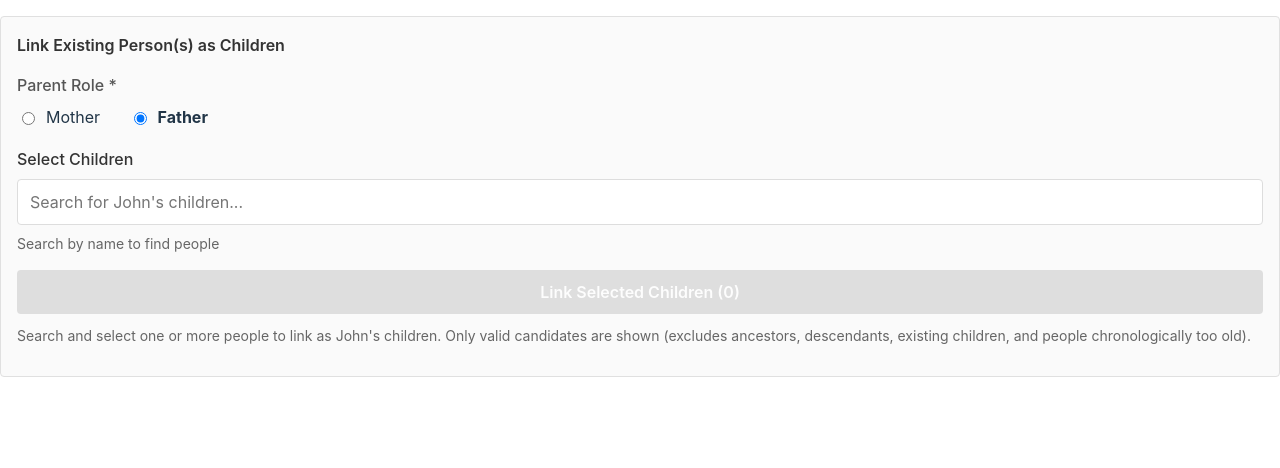
it: LinkExistingChildren › Child Selection › should enable Link button when children are selected and role is chosen
// Open dropdown and select a child
Step 1. Focus the dropdown labelled "Select Children" → (640, 202), box [17,179,1263,225]
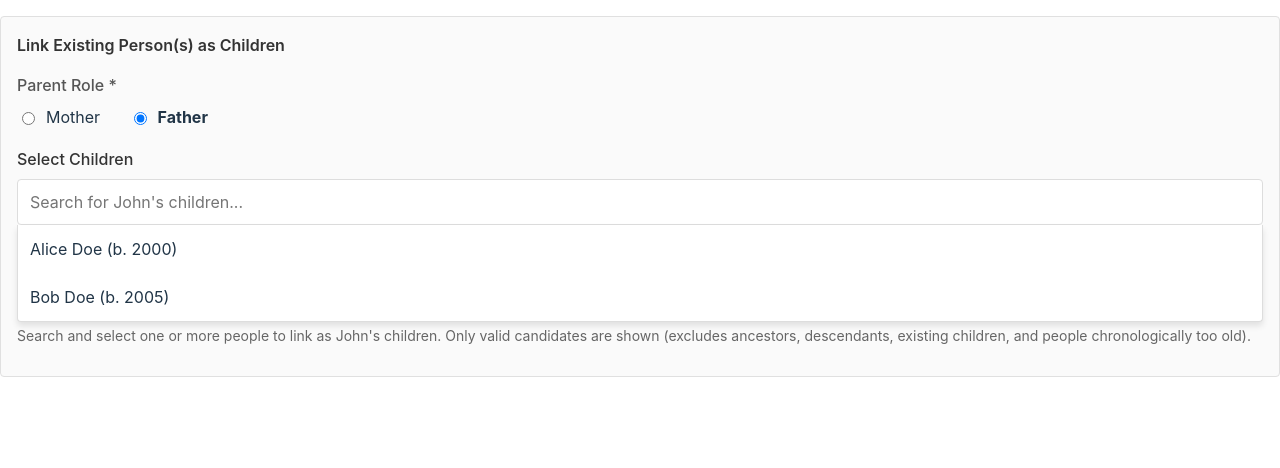
// Click first valid option
Step 2. Click the option "Alice Doe (b. 2000)" → click(104, 249), box [30,239,177,259]
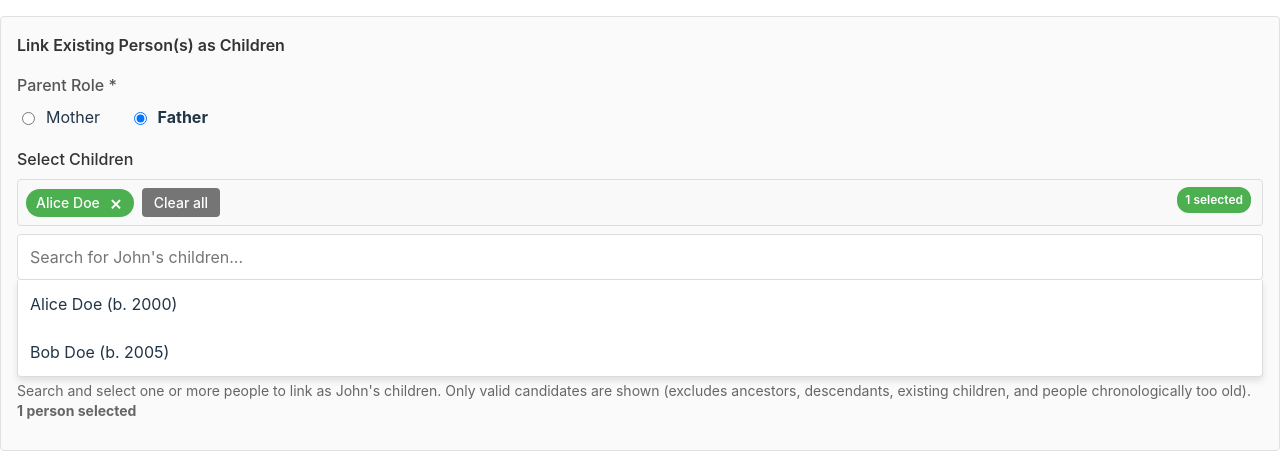
Expected: the button "Link Selected Children (1)" is enabled, [17,325,1263,369]
